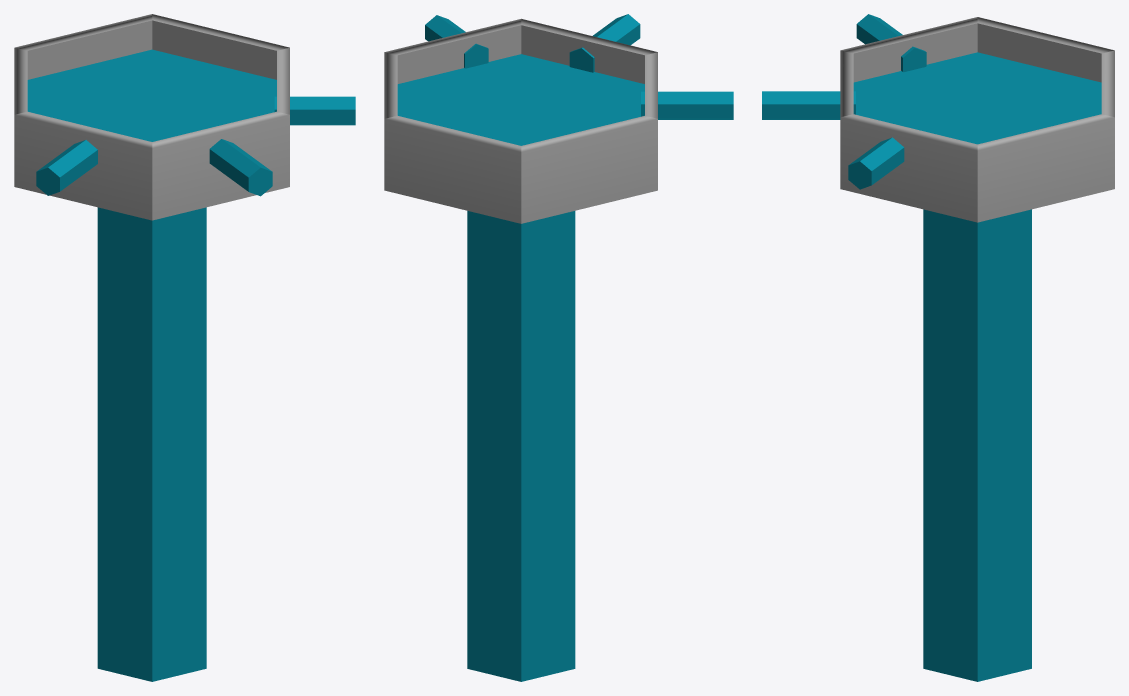
File: PoolBlue.fbx
3 renders of one model, left to right at view 1: azimuth 30°, elevation 25°; view 2: azimuth 150°, elevation 25°; view 3: azimuth 270°, elevation 25°, orthographic.
Visible parts, largest first — view 1: BlueStand, Pool1Blue, PoolBlueWater, BluetoIndigotPipe, BluetoVioletPipe, Blue_toGreenPipe; view 2: BlueStand, Pool1Blue, PoolBlueWater, Blue_toGreenPipe, BluetoIndigotPipe, BluetoVioletPipe; view 3: BlueStand, Pool1Blue, PoolBlueWater, BluetoIndigotPipe, BluetoVioletPipe, Blue_toGreenPipe.
Boxes of the visible parts, x1=… form: BlueStand: x1=97, y1=207, x2=206, y2=681; Pool1Blue: x1=14, y1=14, x2=289, y2=220; PoolBlueWater: x1=27, y1=49, x2=276, y2=141; BluetoIndigotPipe: x1=209, y1=139, x2=272, y2=196; BluetoVioletPipe: x1=274, y1=96, x2=355, y2=125; Blue_toGreenPipe: x1=36, y1=140, x2=97, y2=195; BlueStand: x1=467, y1=211, x2=575, y2=681; Pool1Blue: x1=384, y1=18, x2=657, y2=223; PoolBlueWater: x1=397, y1=54, x2=644, y2=145; Blue_toGreenPipe: x1=641, y1=91, x2=733, y2=119; BluetoIndigotPipe: x1=569, y1=14, x2=640, y2=72; BluetoVioletPipe: x1=425, y1=15, x2=488, y2=68; BlueStand: x1=923, y1=209, x2=1031, y2=681; Pool1Blue: x1=840, y1=17, x2=1114, y2=222; PoolBlueWater: x1=853, y1=52, x2=1101, y2=144; BluetoIndigotPipe: x1=762, y1=91, x2=855, y2=119; BluetoVioletPipe: x1=848, y1=137, x2=904, y2=189; Blue_toGreenPipe: x1=856, y1=14, x2=926, y2=72.
Bounding box in the file's own units: 0.0457 × 0.0796 × 0.0445.
